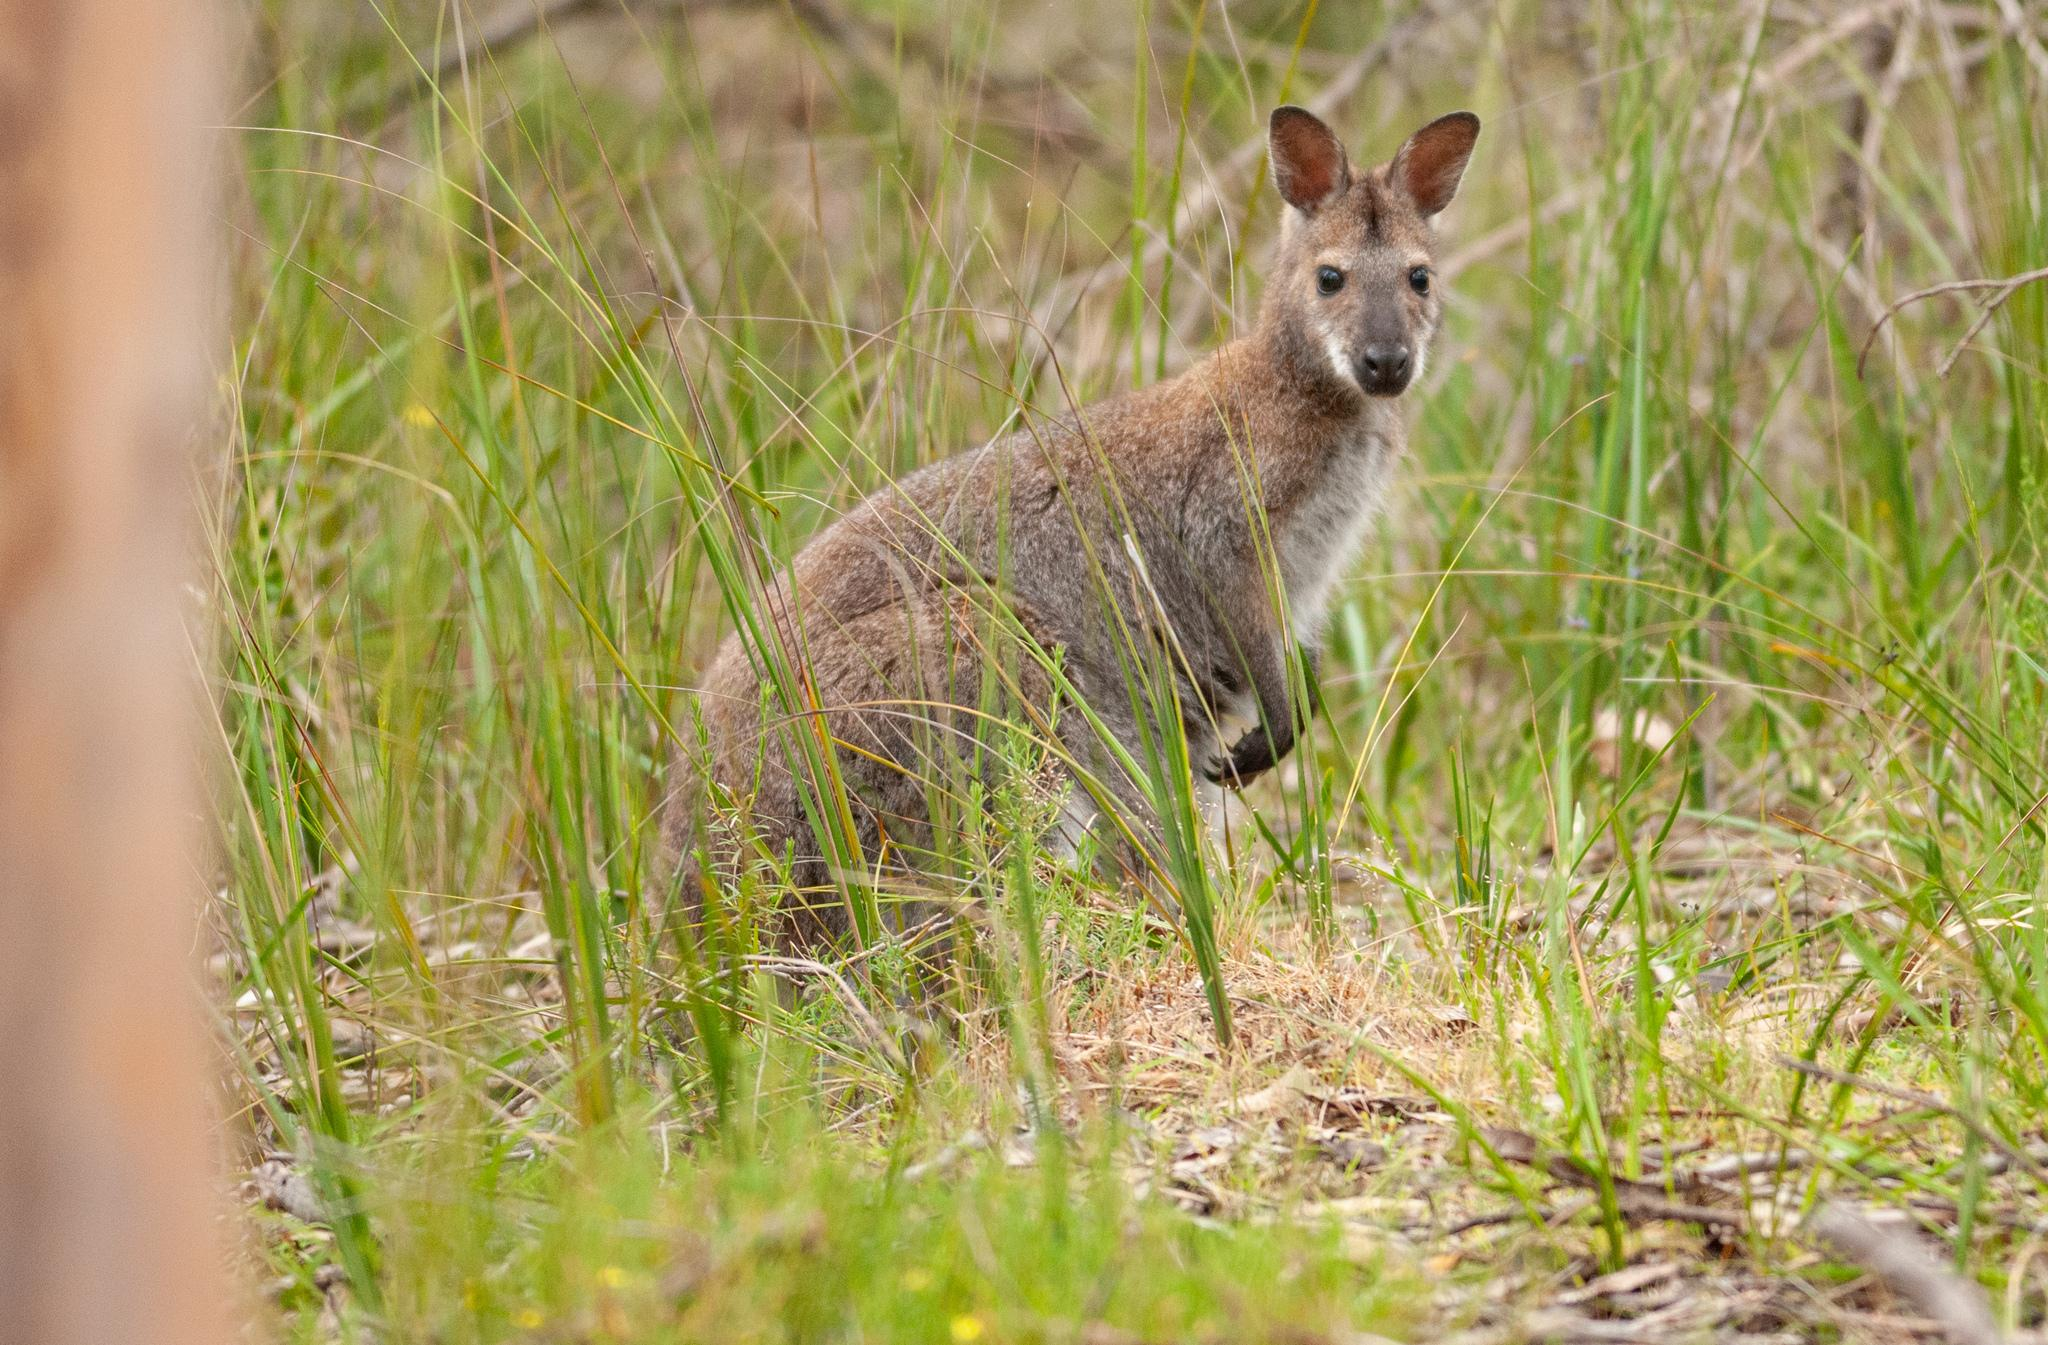Red-necked wallaby: (633, 105, 1487, 1003)
